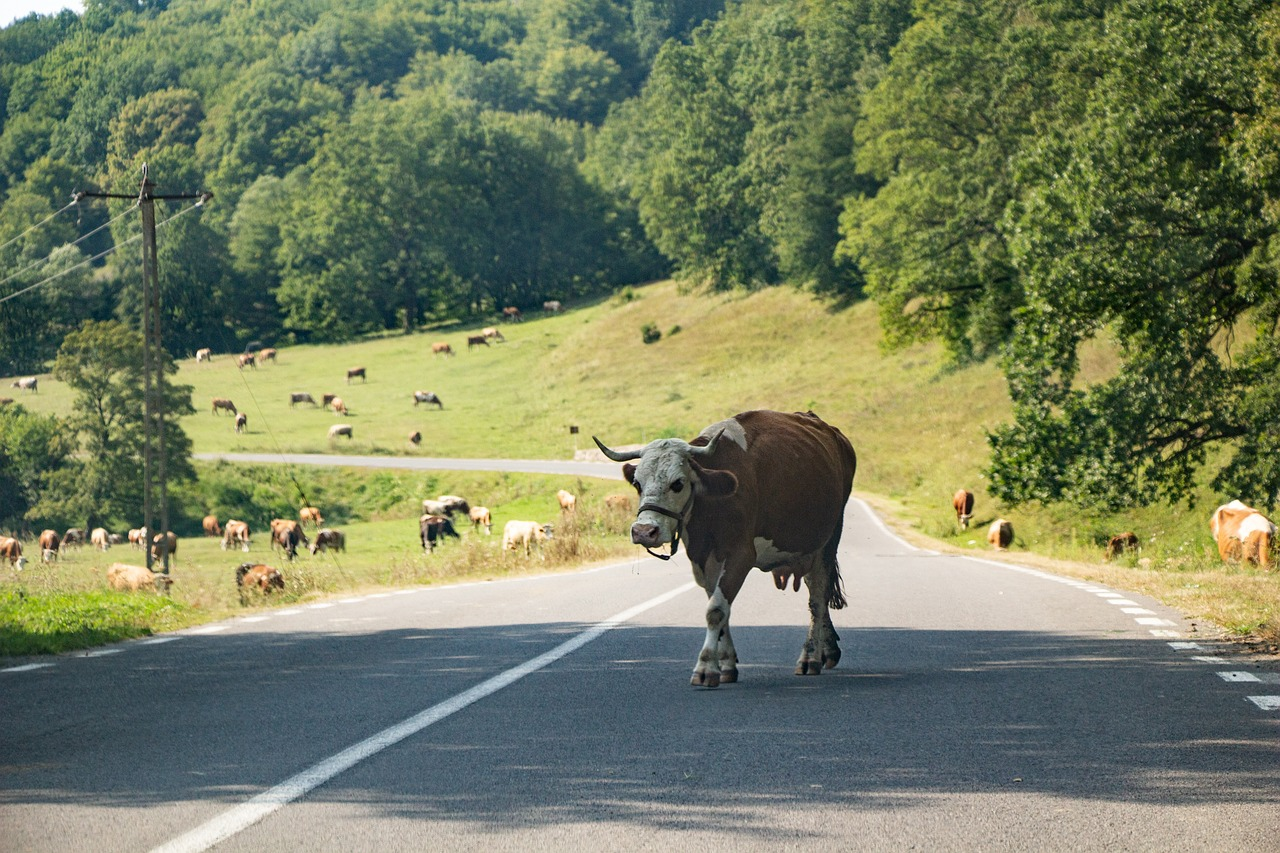inek: (568, 400, 879, 684), (1211, 500, 1279, 607), (99, 559, 201, 618), (229, 561, 300, 619), (503, 518, 556, 572), (412, 515, 459, 560), (947, 480, 981, 536), (977, 515, 1020, 552), (268, 516, 301, 555), (319, 528, 346, 559)
